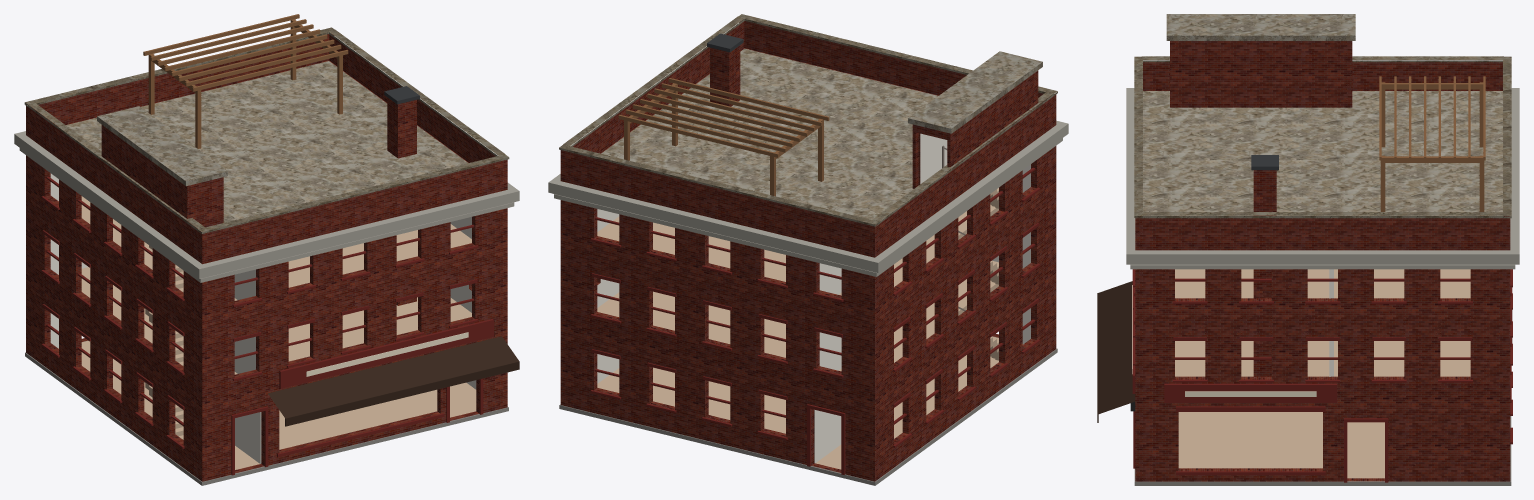
Rendered from mh-corner-tavern.towns-v2.lod0.glb.
3 views of the same model, side by side, from view 1: azimuth 30°, elevation 25°; view 2: azimuth 150°, elevation 25°; view 3: azimuth 270°, elevation 25° (orthographic). The views are drawn at different scales.
Visible parts, largest first — view 1: mh-corner-tavern; view 2: mh-corner-tavern; view 3: mh-corner-tavern.
Part boxes in pixels (x1,y1,x2,y2): mh-corner-tavern: (14, 14, 519, 485); mh-corner-tavern: (548, 14, 1068, 485); mh-corner-tavern: (1097, 14, 1519, 485).
Bounding box in the file's own units: 13.64 × 11.97 × 14.64.
Materials: 5 (2 with a texture image).
